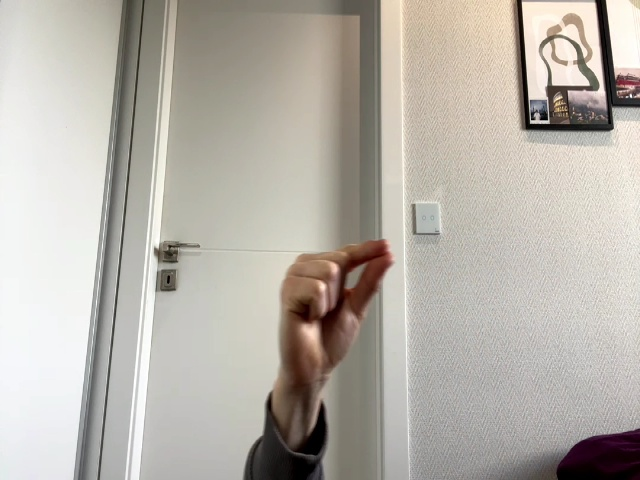P: (280, 240, 395, 389)
